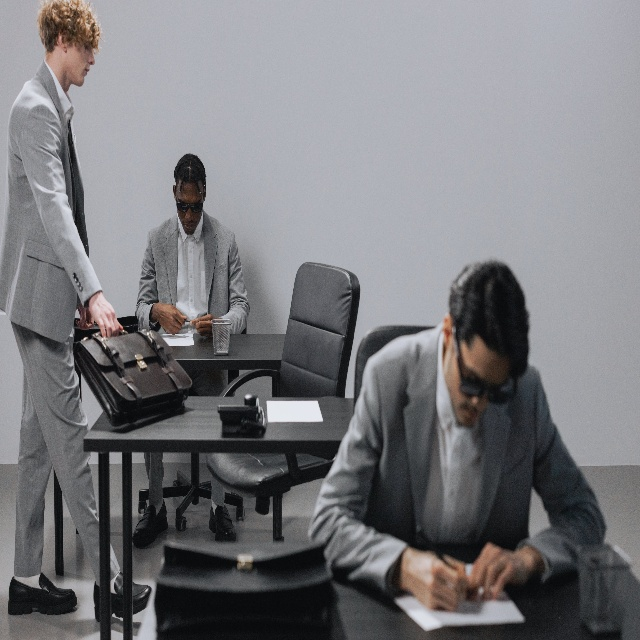Gafas: (452, 325, 518, 406), (175, 193, 205, 214)
Sin_guantes: (408, 548, 468, 612), (465, 542, 530, 600), (88, 291, 123, 335), (156, 302, 187, 337), (189, 313, 219, 338), (75, 300, 95, 331)
